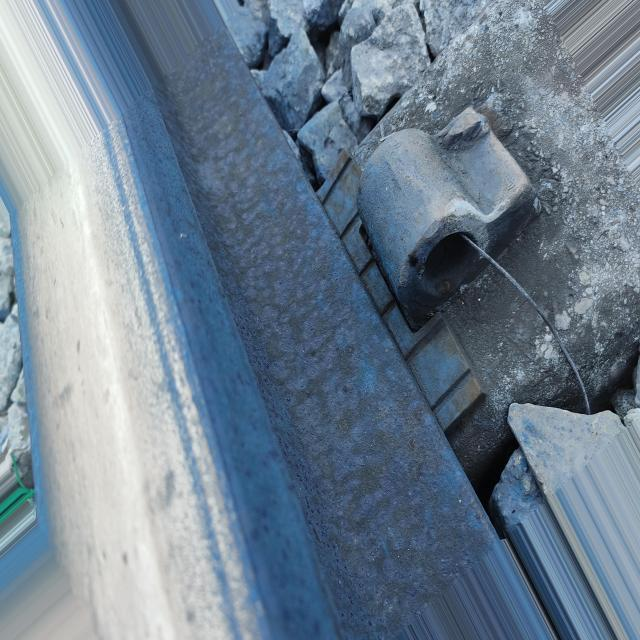Missing Fastener: (331, 72, 571, 398)
